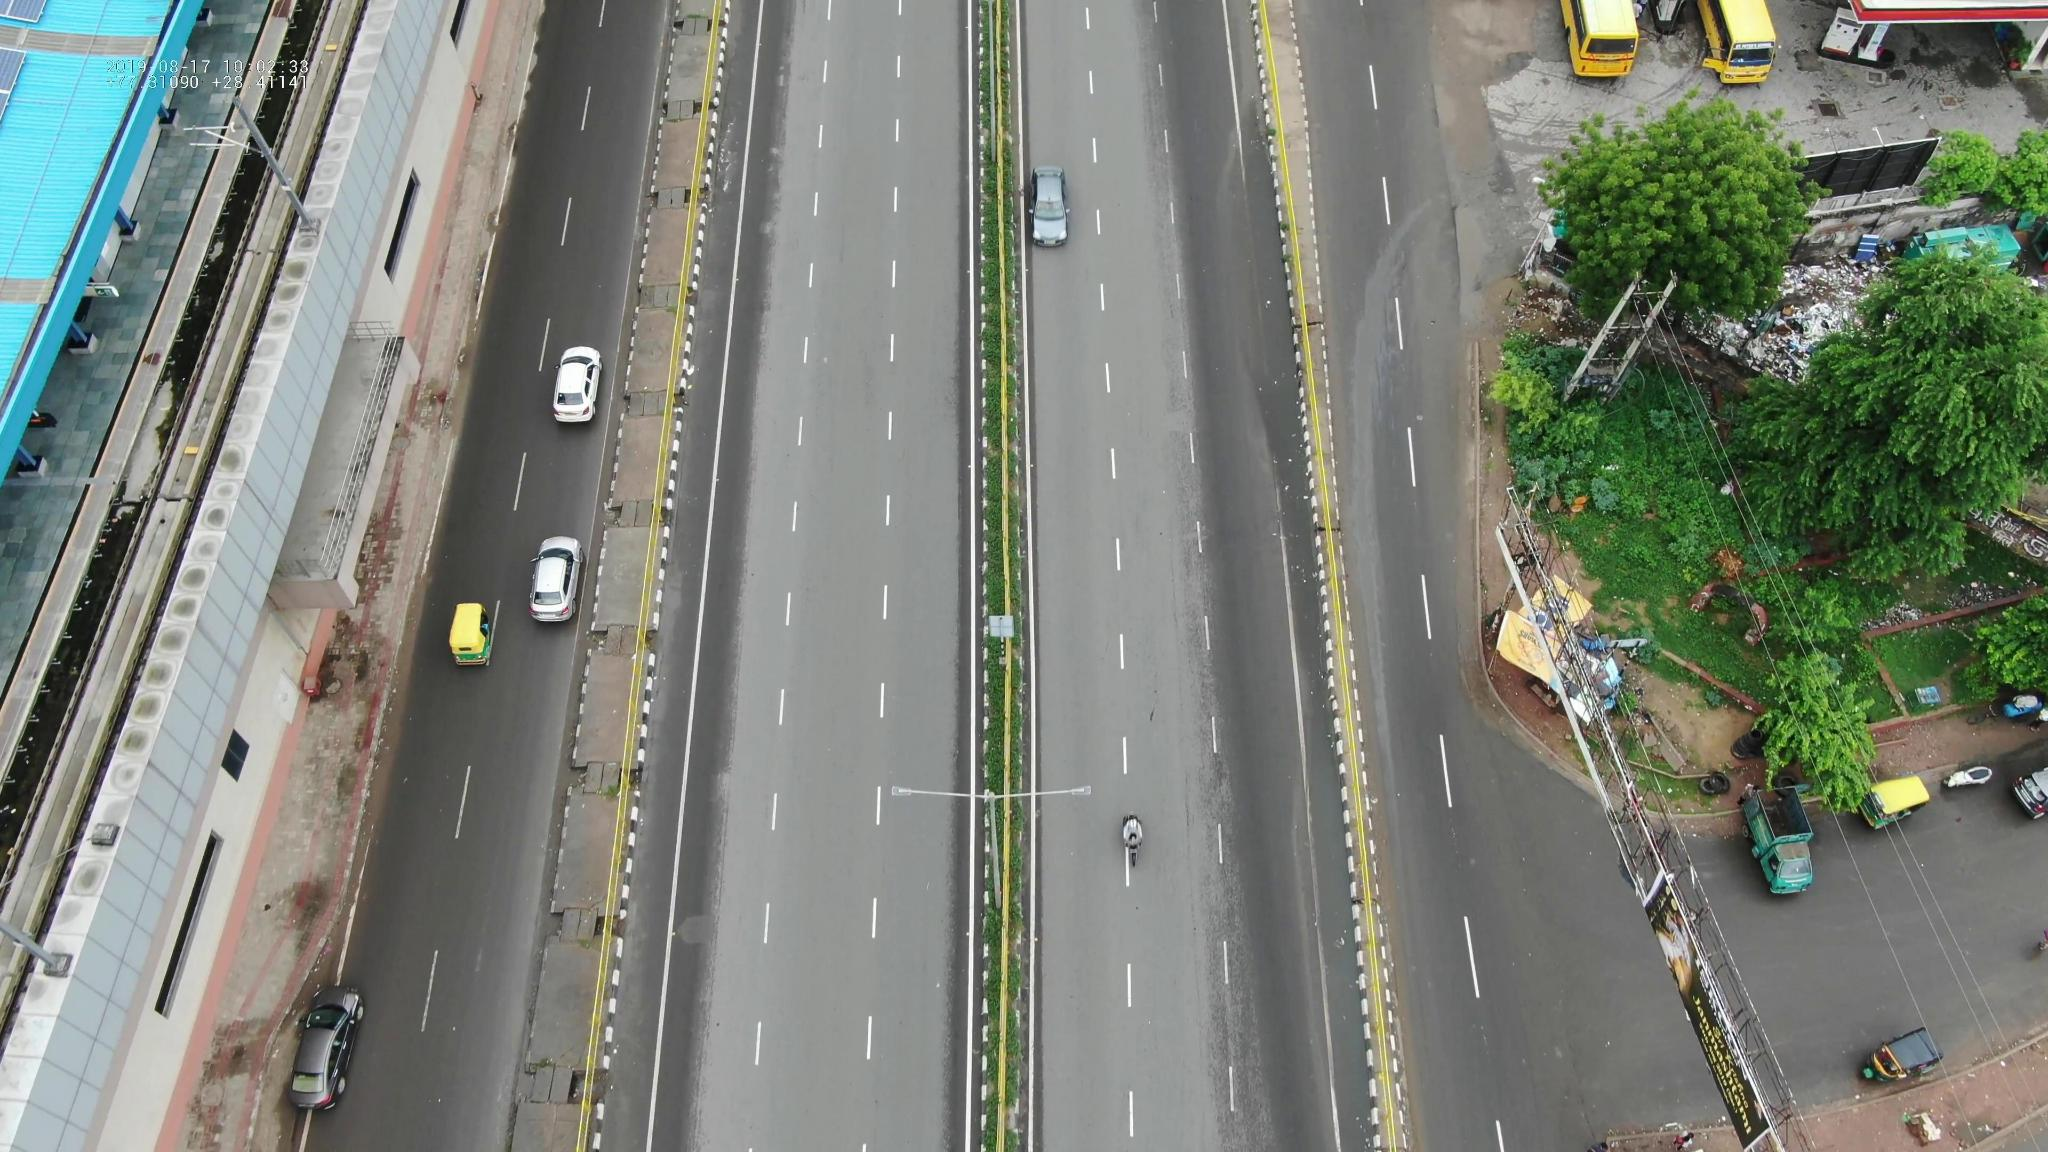Waterlogging: (1222, 121, 1319, 537)
